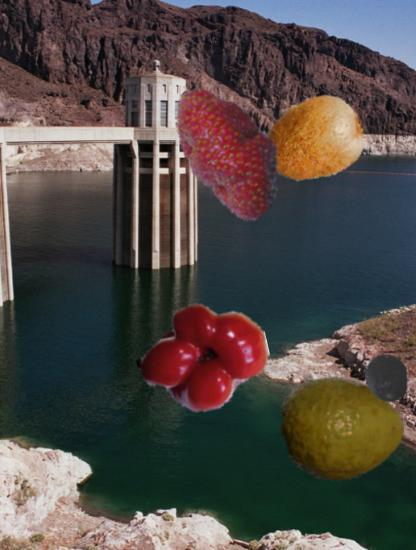Avocado: (362, 353, 413, 404)
Guava: (281, 367, 404, 490)
Kiwi: (264, 90, 366, 192)
Pepper: (137, 291, 269, 423)
Strawberry: (155, 78, 299, 222)
